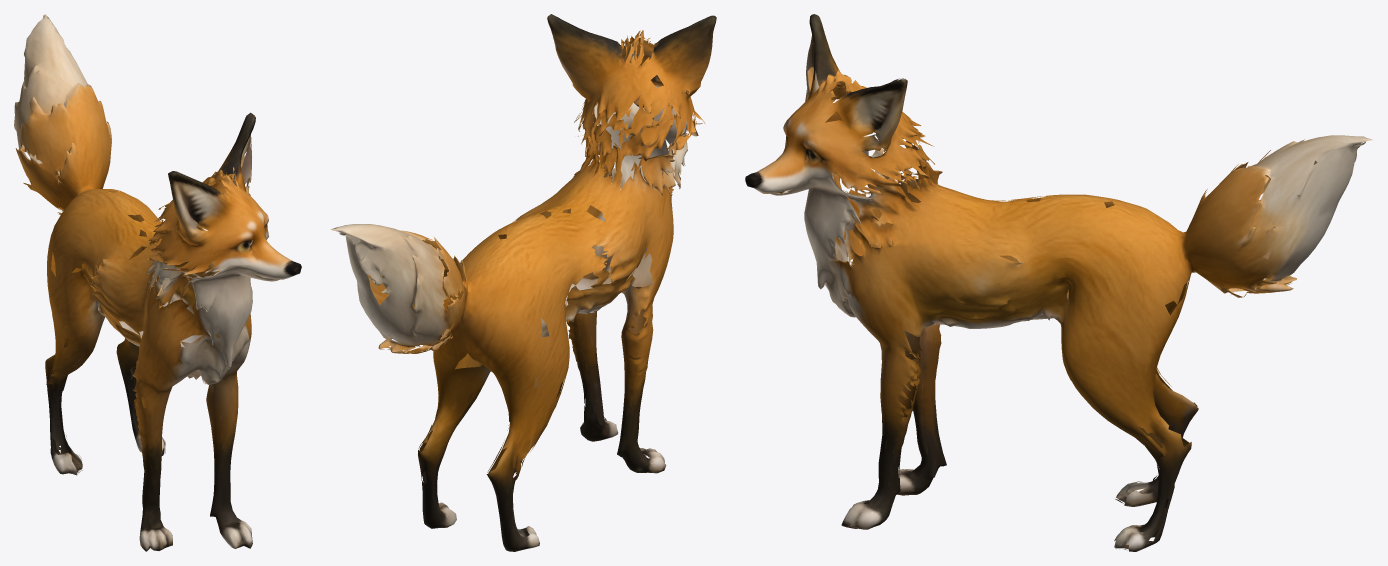
Rendered from critter_fox.glb.
The picture shows the model from 3 angles, left to right: view 1: azimuth 30°, elevation 25°; view 2: azimuth 150°, elevation 25°; view 3: azimuth 270°, elevation 25°; orthographic projection. The views are drawn at different scales.
Visible parts, largest first — view 1: world; view 2: world; view 3: world.
Part boxes in pixels (x1,y1,x2,y2): world: [14, 14, 301, 551]; world: [330, 14, 716, 551]; world: [745, 14, 1372, 551].
Size of the model in its own units: 0.2812 by 0.8212 by 0.9974.
Materials: 1 (1 with a texture image).
